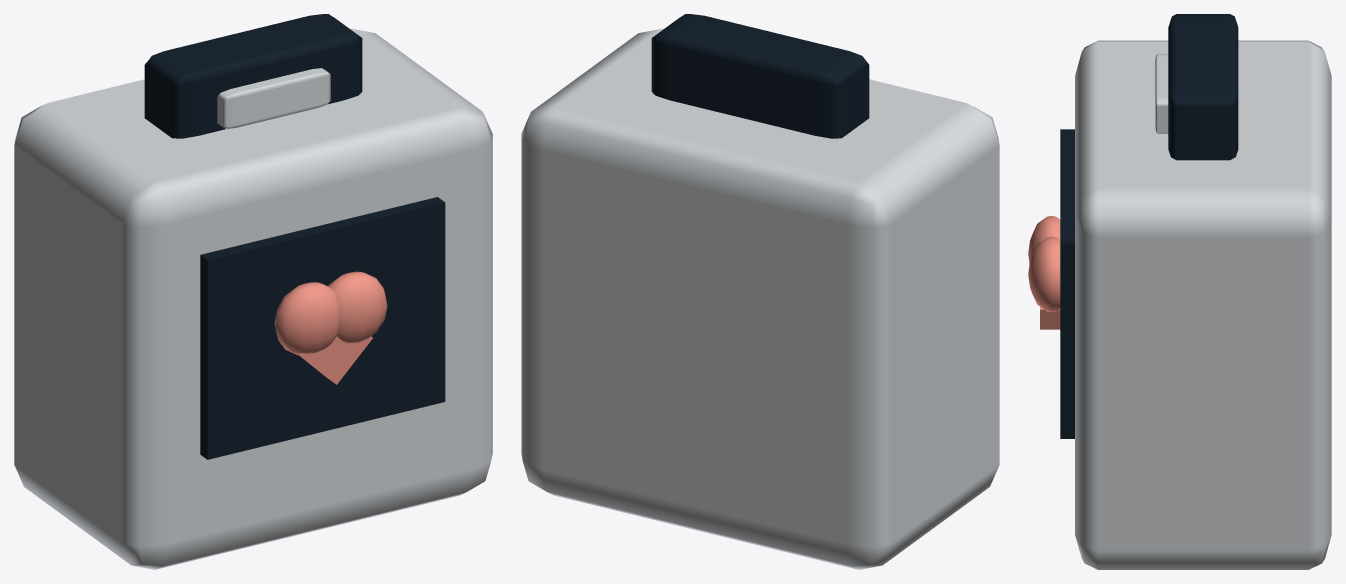
The model's file is item-med.glb.
3 renders of one model, left to right at view 1: azimuth 30°, elevation 25°; view 2: azimuth 150°, elevation 25°; view 3: azimuth 270°, elevation 25°, orthographic.
Parts seen in each view (by area): view 1: package, label, carry-handle, handle-opening, heart-left, heart-right, heart-point; view 2: package, carry-handle; view 3: package, carry-handle, label, heart-right, handle-opening, heart-left, heart-point.
Part boxes in pixels (left/top/right/bottom): package: left=14, top=28, right=492, bottom=569; label: left=200, top=197, right=445, bottom=459; carry-handle: left=144, top=14, right=362, bottom=138; handle-opening: left=217, top=68, right=330, bottom=128; heart-left: left=274, top=282, right=339, bottom=355; heart-right: left=328, top=271, right=387, bottom=342; heart-point: left=298, top=336, right=372, bottom=384; package: left=521, top=28, right=999, bottom=569; carry-handle: left=651, top=14, right=869, bottom=138; package: left=1075, top=40, right=1331, bottom=569; carry-handle: left=1168, top=14, right=1238, bottom=160; label: left=1060, top=129, right=1074, bottom=438; heart-right: left=1028, top=236, right=1060, bottom=312; handle-opening: left=1155, top=53, right=1168, bottom=133; heart-left: left=1028, top=216, right=1060, bottom=262; heart-point: left=1040, top=306, right=1060, bottom=329.
Size of the model in its own units: 0.72 by 0.835 by 0.52.
